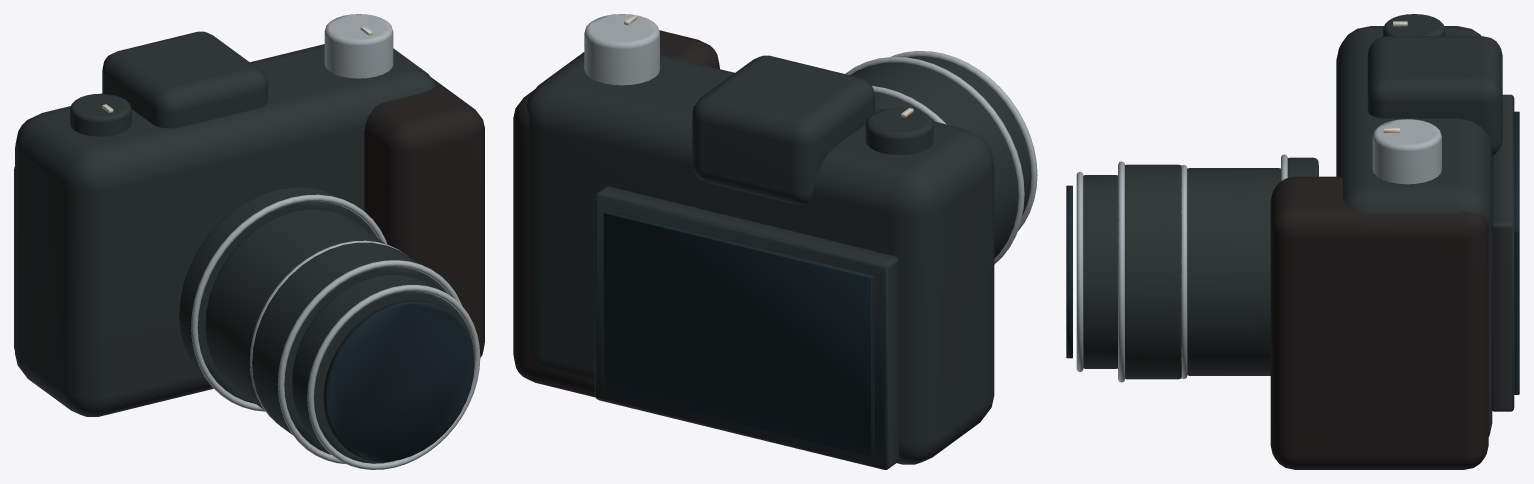
The model's file is photo_camera.glb.
3 views of the same model, side by side, from view 1: azimuth 30°, elevation 25°; view 2: azimuth 150°, elevation 25°; view 3: azimuth 270°, elevation 25° (orthographic). The views are drawn at different scales.
Visible parts, largest first — view 1: Camera magnesium body, Textured hand grip, Inset display glass, Camera strap lug; view 2: Camera magnesium body, Inset display glass, Camera strap lug, Textured hand grip; view 3: Camera magnesium body, Textured hand grip, Camera strap lug, Inset display glass.
Part boxes in pixels (x1=…): Camera magnesium body: x1=14, y1=31, x2=473, y2=463; Textured hand grip: x1=364, y1=77, x2=484, y2=357; Inset display glass: x1=323, y1=300, x2=474, y2=461; Camera strap lug: x1=191, y1=14, x2=480, y2=469; Camera magnesium body: x1=527, y1=52, x2=1031, y2=469; Inset display glass: x1=603, y1=210, x2=874, y2=456; Camera strap lug: x1=584, y1=14, x2=1037, y2=264; Textured hand grip: x1=513, y1=30, x2=719, y2=397; Camera magnesium body: x1=1083, y1=14, x2=1514, y2=436; Textured hand grip: x1=1270, y1=176, x2=1488, y2=469; Camera strap lug: x1=1076, y1=119, x2=1441, y2=382; Inset display glass: x1=1066, y1=111, x2=1519, y2=394.
Bounding box in the file's own units: 0.1285 × 0.1007 × 0.131.
5 materials, 5 textured.
